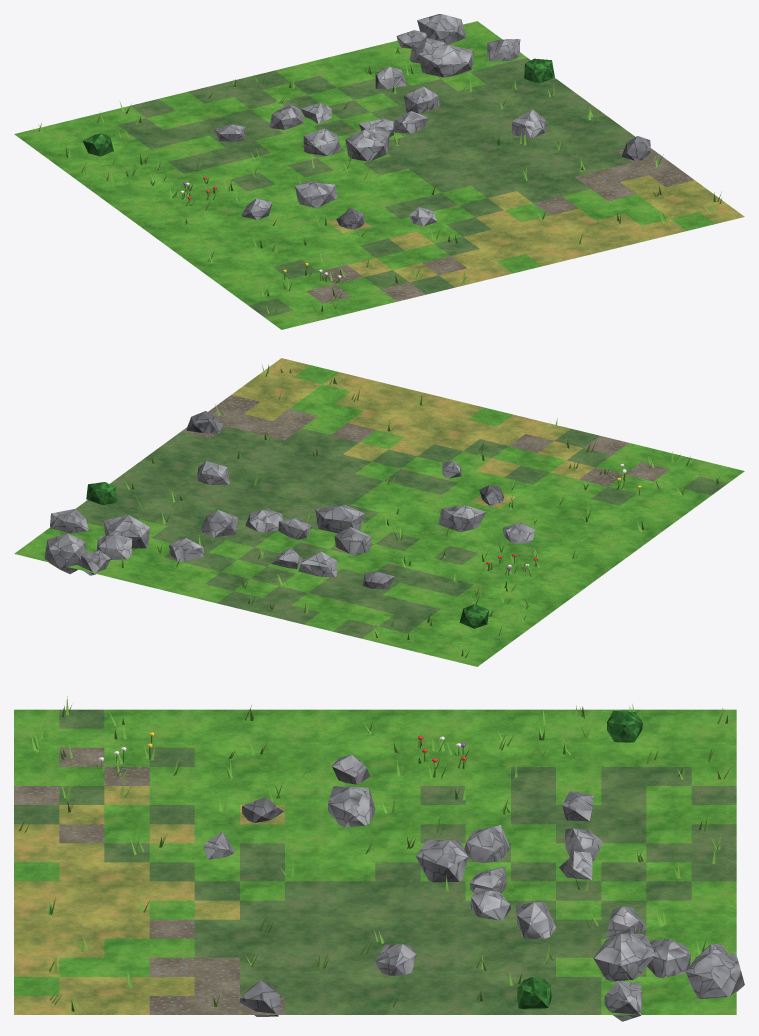
File: chunk_8_16.glb
The picture shows the model from 3 angles, top to bottom: view 1: azimuth 30°, elevation 25°; view 2: azimuth 150°, elevation 25°; view 3: azimuth 270°, elevation 25°; orthographic projection. The views are drawn at different scales.
Parts seen in each view (by area): view 1: chunk_8_16; view 2: chunk_8_16; view 3: chunk_8_16.
Part boxes in pixels (left/top/right/bottom): chunk_8_16: left=14, top=14, right=744, bottom=329; chunk_8_16: left=14, top=358, right=744, bottom=666; chunk_8_16: left=14, top=696, right=744, bottom=1021.
Size of the model in its own units: 16.1 by 1.33 by 16.18.
13 materials, 8 textured.
